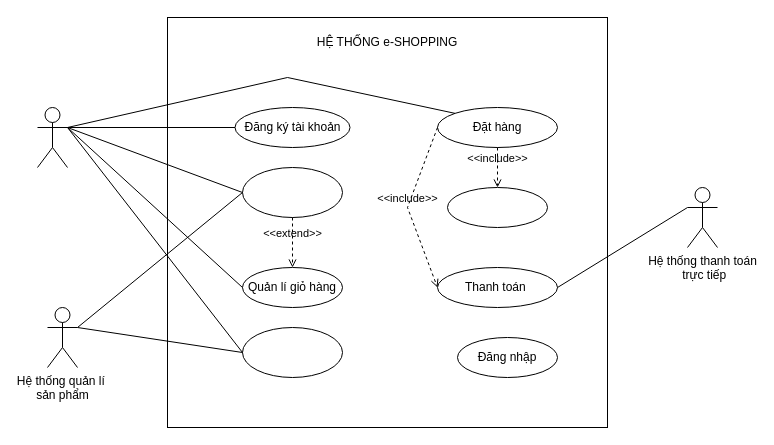
Some shapes in this 774 by 445 pixel diagram are drawn without their labels. The centre of each missing label's shape, as x and y in pixels:
Gửi xác nhận email: the point at 497,207
Khách hàng: the point at 52,137
Xem chi tiết sản phẩm: the point at 292,192
Xem danh sách sản phẩm: the point at 292,352
